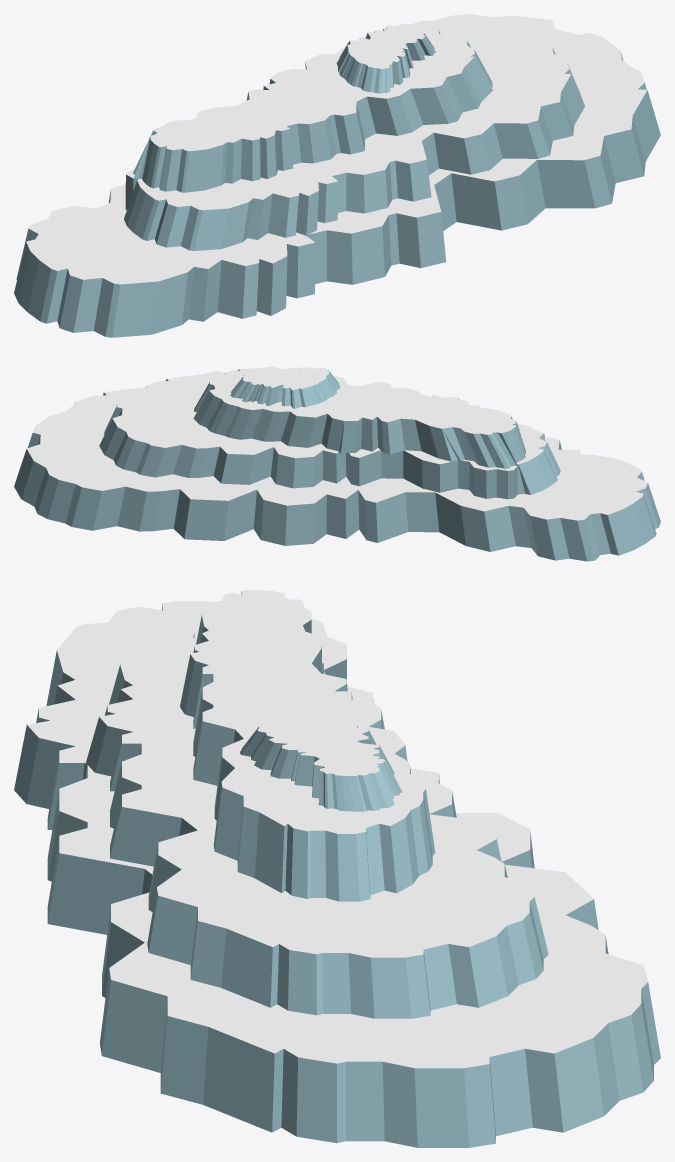
File: Hill_Mound_Snow_01.fbx
3 views of the same model, one above another, from view 1: azimuth 30°, elevation 25°; view 2: azimuth 150°, elevation 25°; view 3: azimuth 270°, elevation 25° (orthographic). The views are drawn at different scales.
Parts seen in each view (by area): view 1: Hill_Mound_Snow_01; view 2: Hill_Mound_Snow_01; view 3: Hill_Mound_Snow_01.
Boxes of the visible parts, x1,y1,x2,y2 form: Hill_Mound_Snow_01: (14, 14, 660, 337); Hill_Mound_Snow_01: (14, 366, 660, 561); Hill_Mound_Snow_01: (14, 590, 660, 1147).
Bounding box in the file's own units: 820 × 160 × 461.
